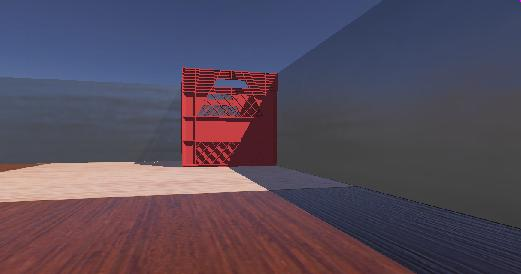PlasticCrate: (169, 59, 289, 176)
